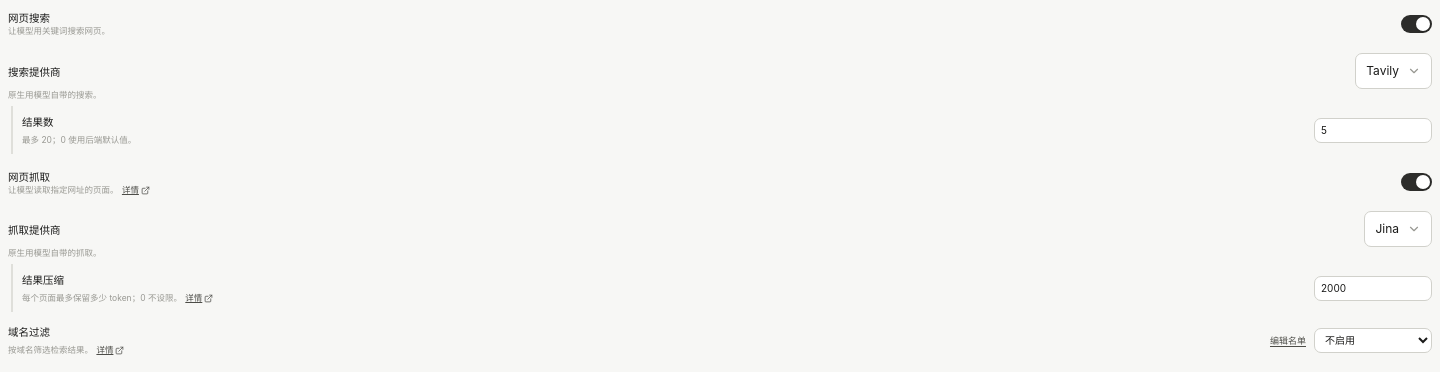
Test: WebSearchBehaviorSettings › restores the provider a leg had when it is switched off and on again
Step 1. Click the switch named "网页搜索已" → (1416, 24), box [1401,15,1432,33]
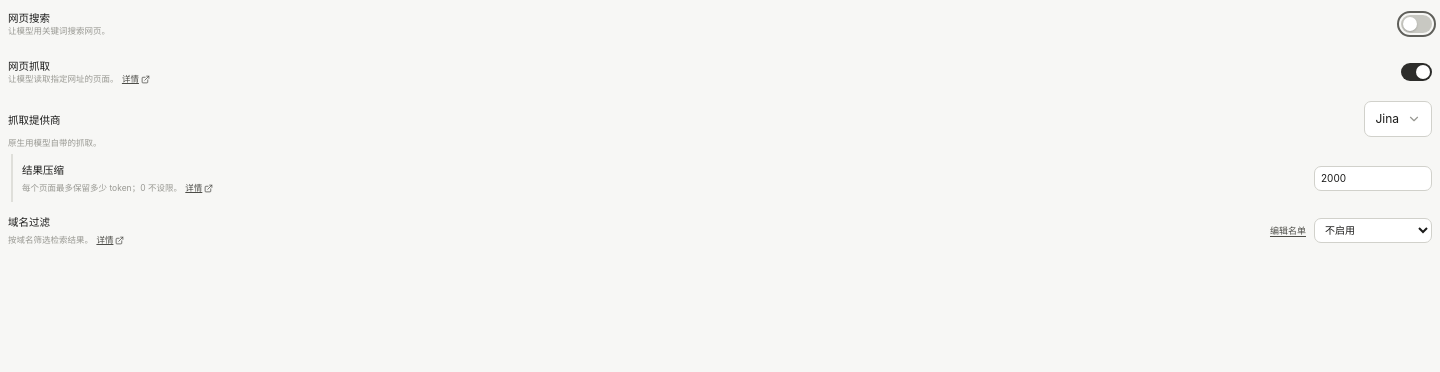
Step 2. Click the switch named "网页搜索已" → (1416, 24), box [1401,15,1432,33]
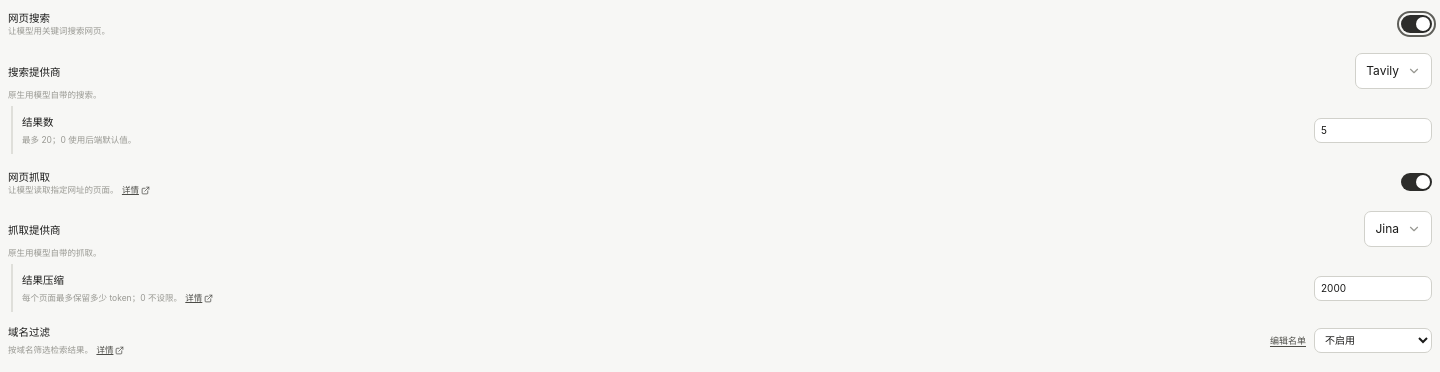
Expected: the button with aria-label "搜索提供商：Tavily" is shown, [1355,53,1432,89]
Step 3. Click the switch named "网页抓取已" → (1416, 182), box [1401,173,1432,191]
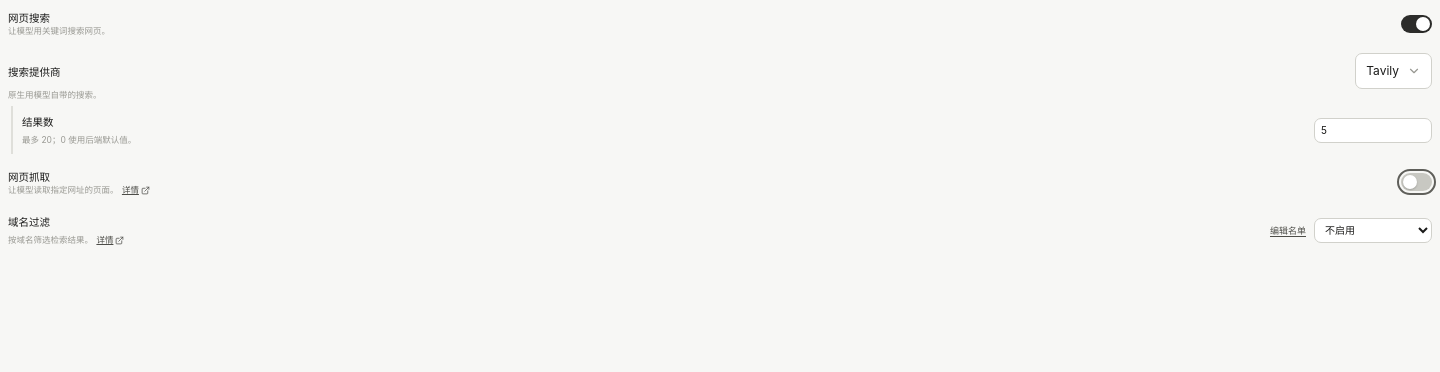
Step 4. Click the switch named "网页抓取已" → (1416, 182), box [1401,173,1432,191]
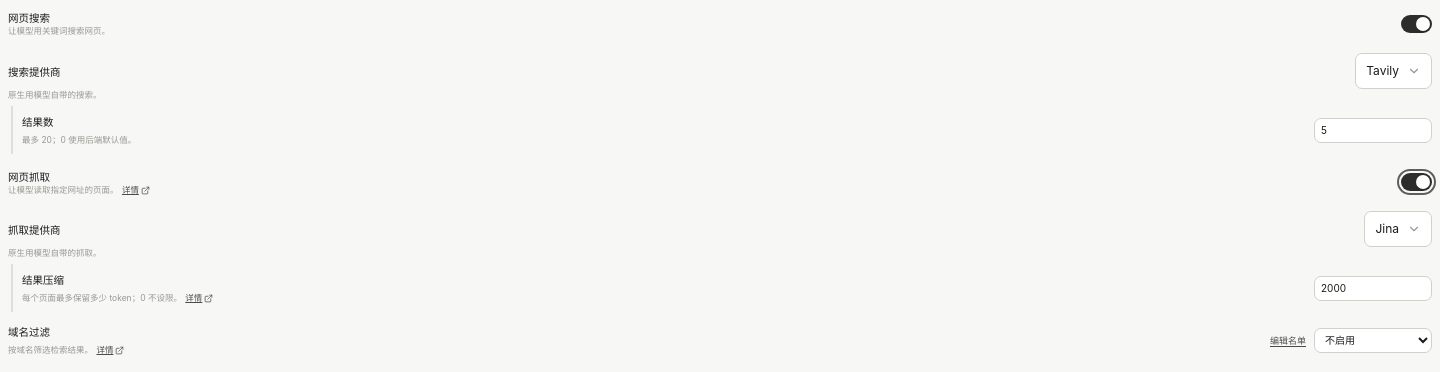
Expected: the button with aria-label "抓取提供商：Jina" is shown, [1364,211,1432,247]
